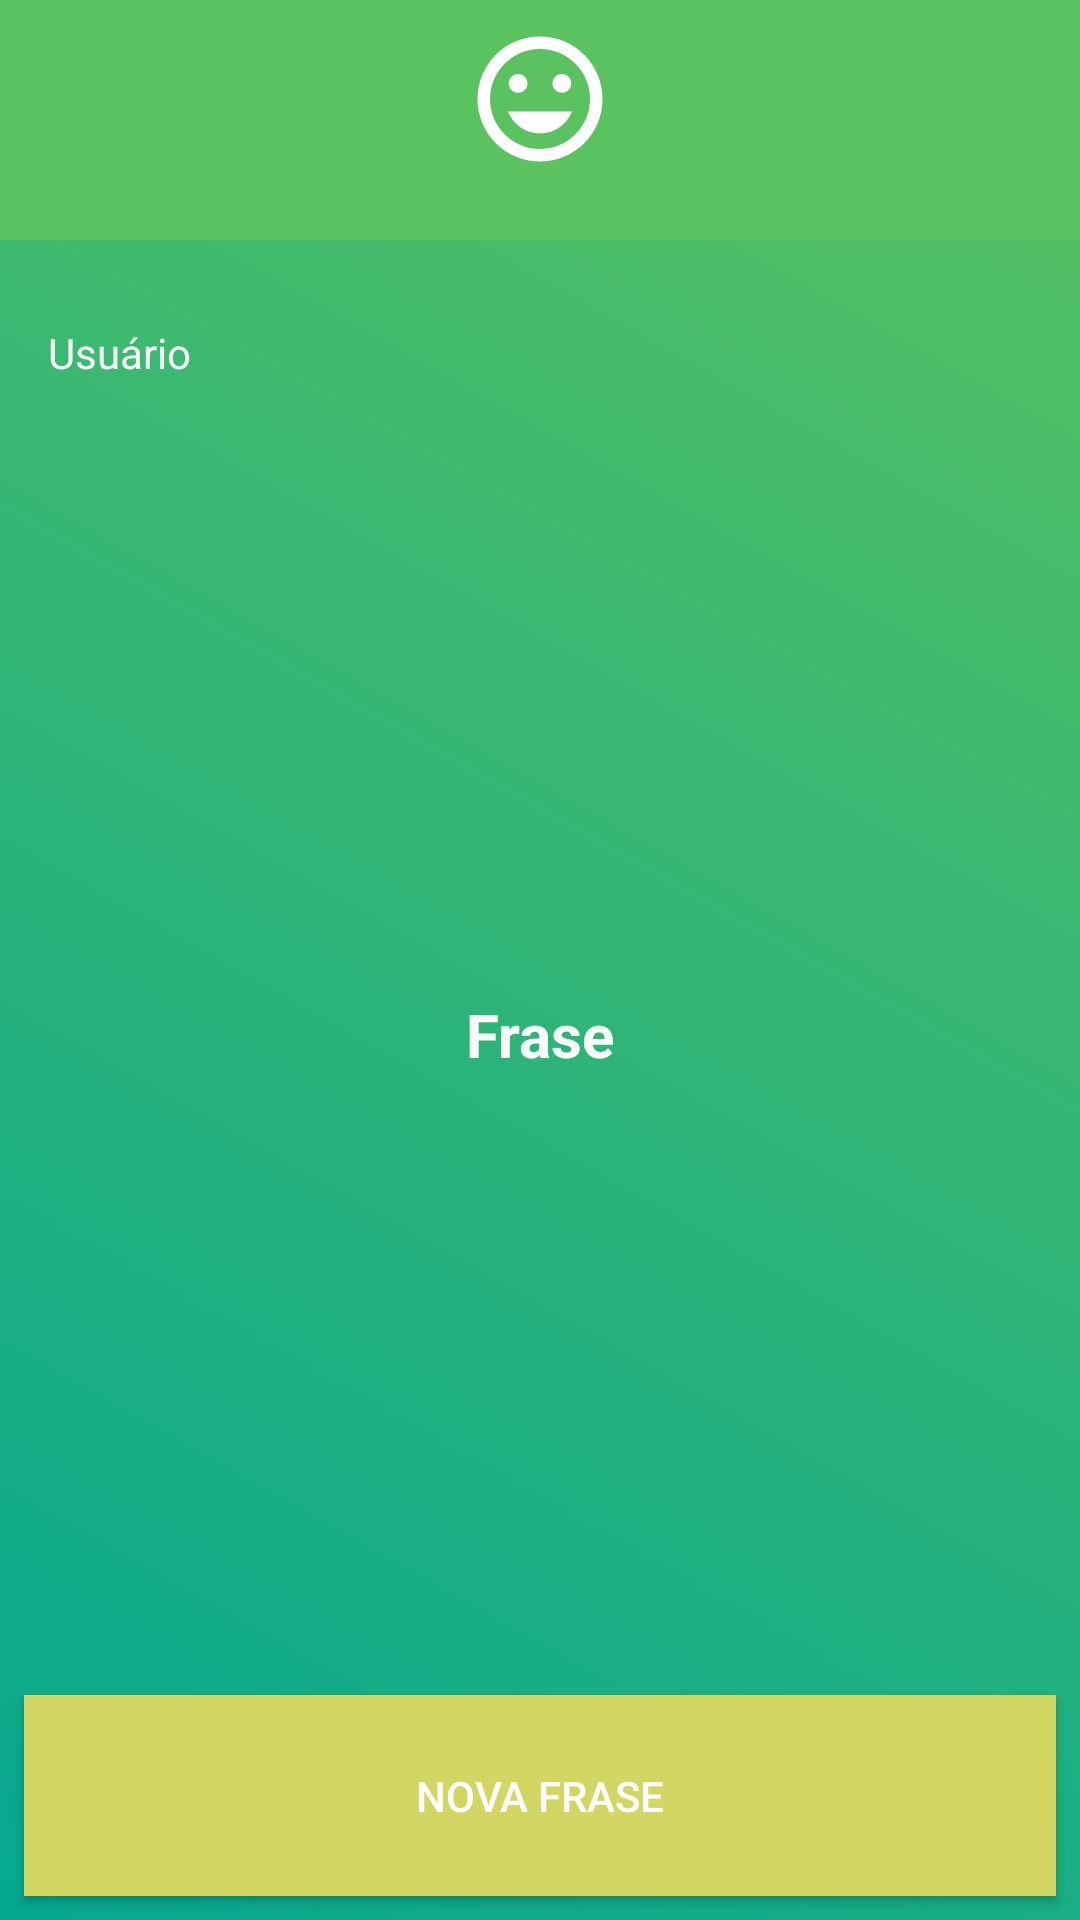

Locate icon controls on the screen. Image size 1080 × 1920, boxes as (x1, y1, x2, y2).
happy: (477, 36, 603, 162)
